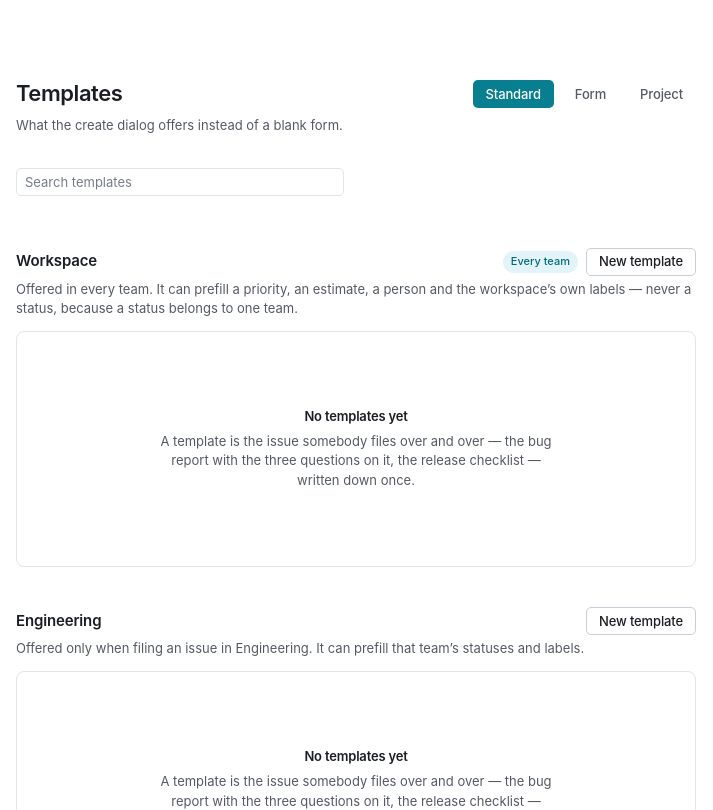
Test case: Templates · what each scope may prefill › offers a team template that team's statuses and nobody else's
Click the button with aria-label "New template for Engineering" at (641,621), box [586,607,696,635]
(page scrolled)
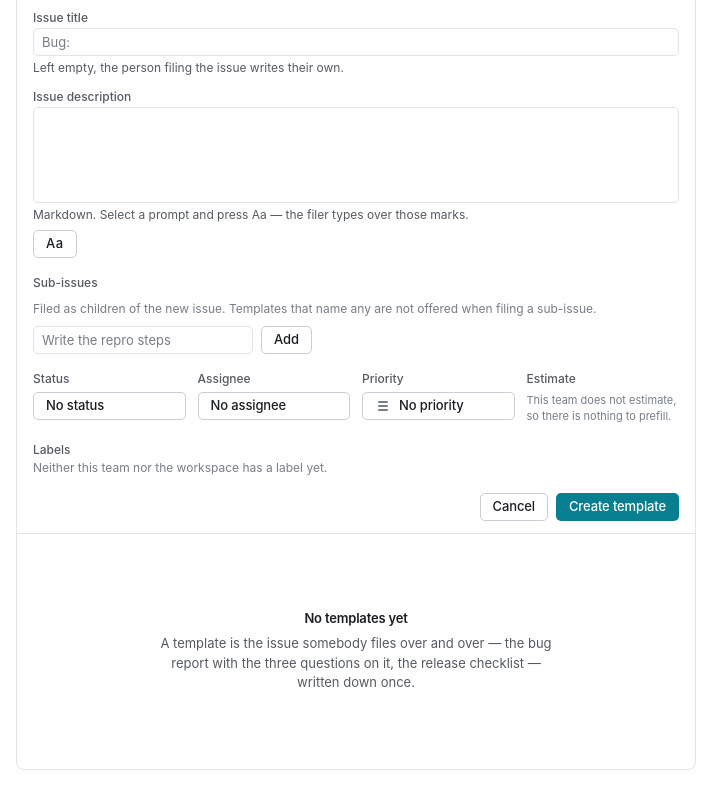
Click the button with aria-label "Status: No status" at (109,406), box [33,392,186,420]
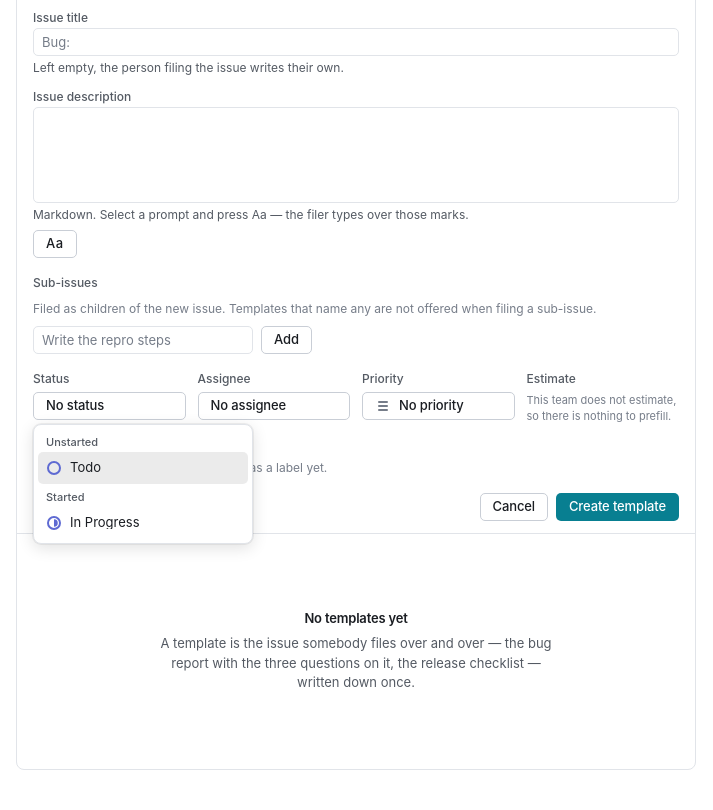
Now the menu items read "Todo", "In Progress", in this order, box [38,452,248,484]; [46,514,140,531]
